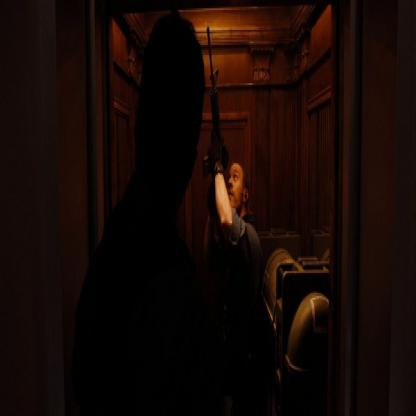Gun: (201, 21, 228, 214)
